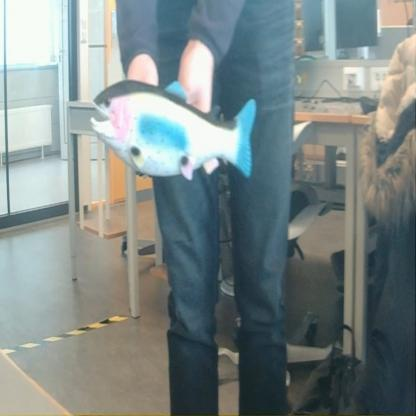rubberfish: (87, 77, 258, 183)
